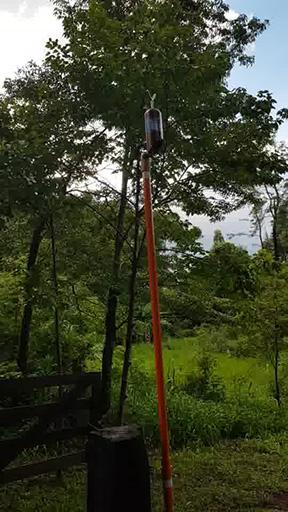Detector_Tensao_Contato: (142, 90, 164, 157)
Vara_Manobra: (137, 152, 174, 512)
